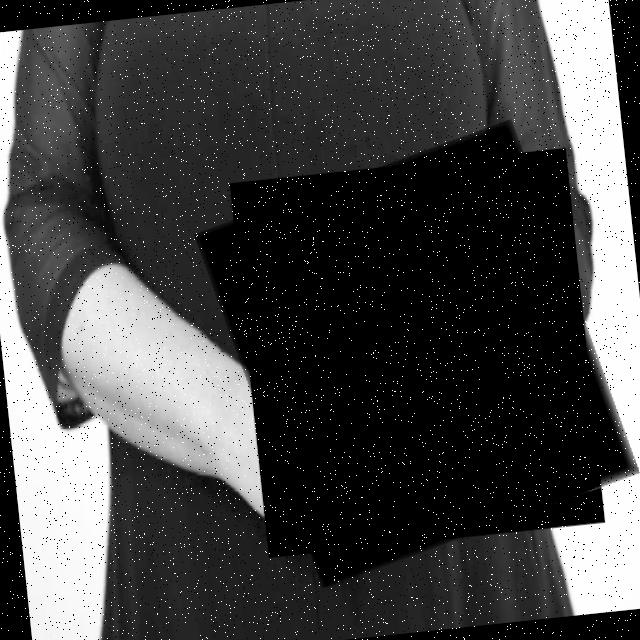Q: (209, 129, 628, 578)
